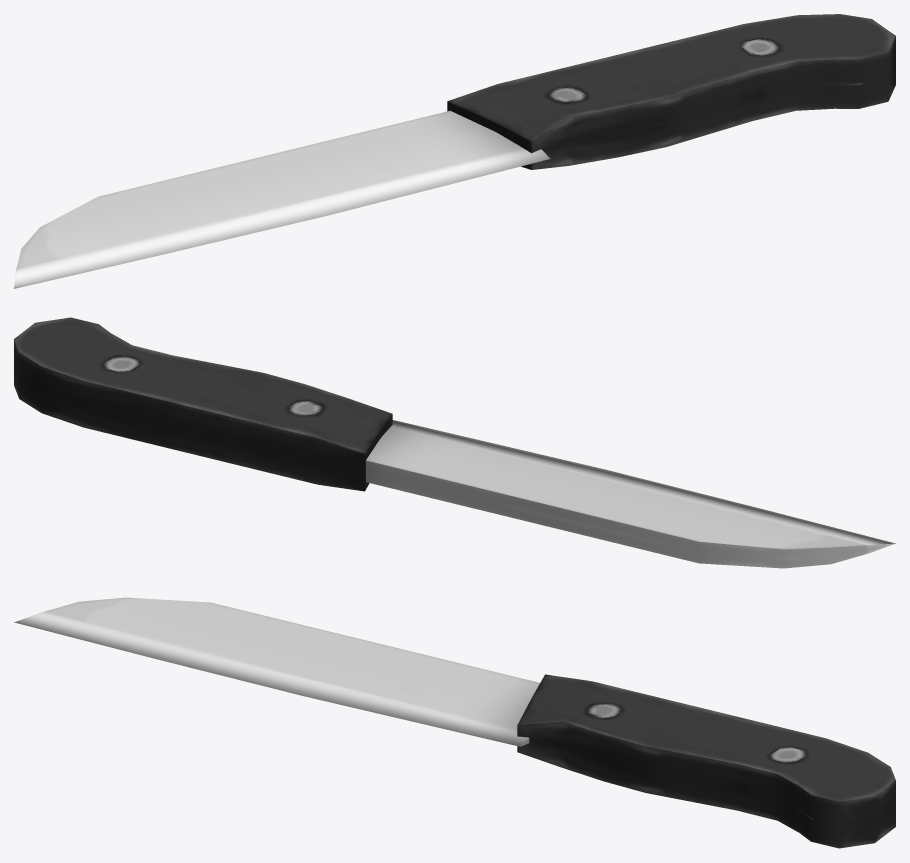
Rendered from ShaShouJia_01_shuiguodao_01.FBX.
3 renders of one model, top to bottom at view 1: azimuth 30°, elevation 25°; view 2: azimuth 150°, elevation 25°; view 3: azimuth 330°, elevation 25°, orthographic. The views are drawn at different scales.
Visible parts, largest first — view 1: ShaShouJia_01_shuiguodao_01; view 2: ShaShouJia_01_shuiguodao_01; view 3: ShaShouJia_01_shuiguodao_01.
Part boxes in pixels (<box>): ShaShouJia_01_shuiguodao_01: <box>14,14,895,288</box>; ShaShouJia_01_shuiguodao_01: <box>14,317,895,568</box>; ShaShouJia_01_shuiguodao_01: <box>14,597,895,848</box>.
Size of the model in its own units: 194 by 10.2 by 25.2.
